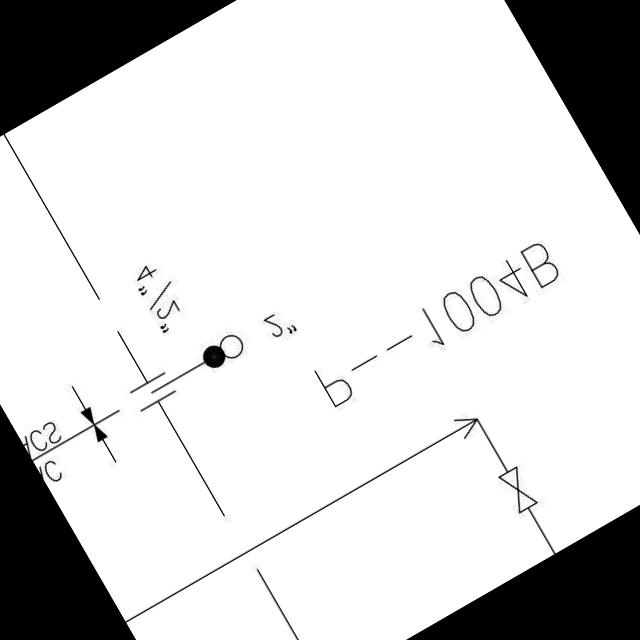GV: (492, 458, 544, 518)
